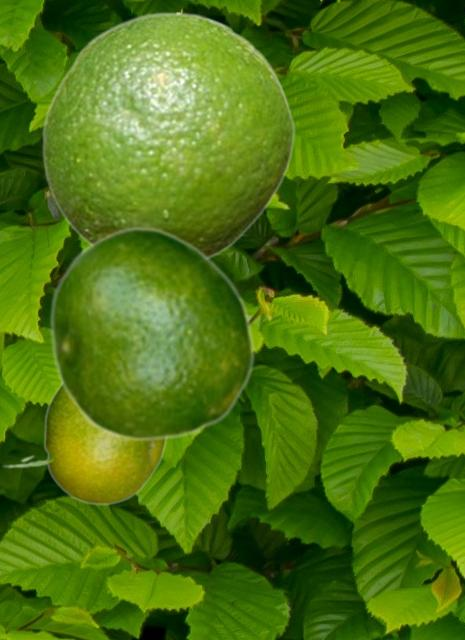calamansi: (41, 11, 294, 258), (48, 225, 255, 441), (2, 384, 167, 504)
